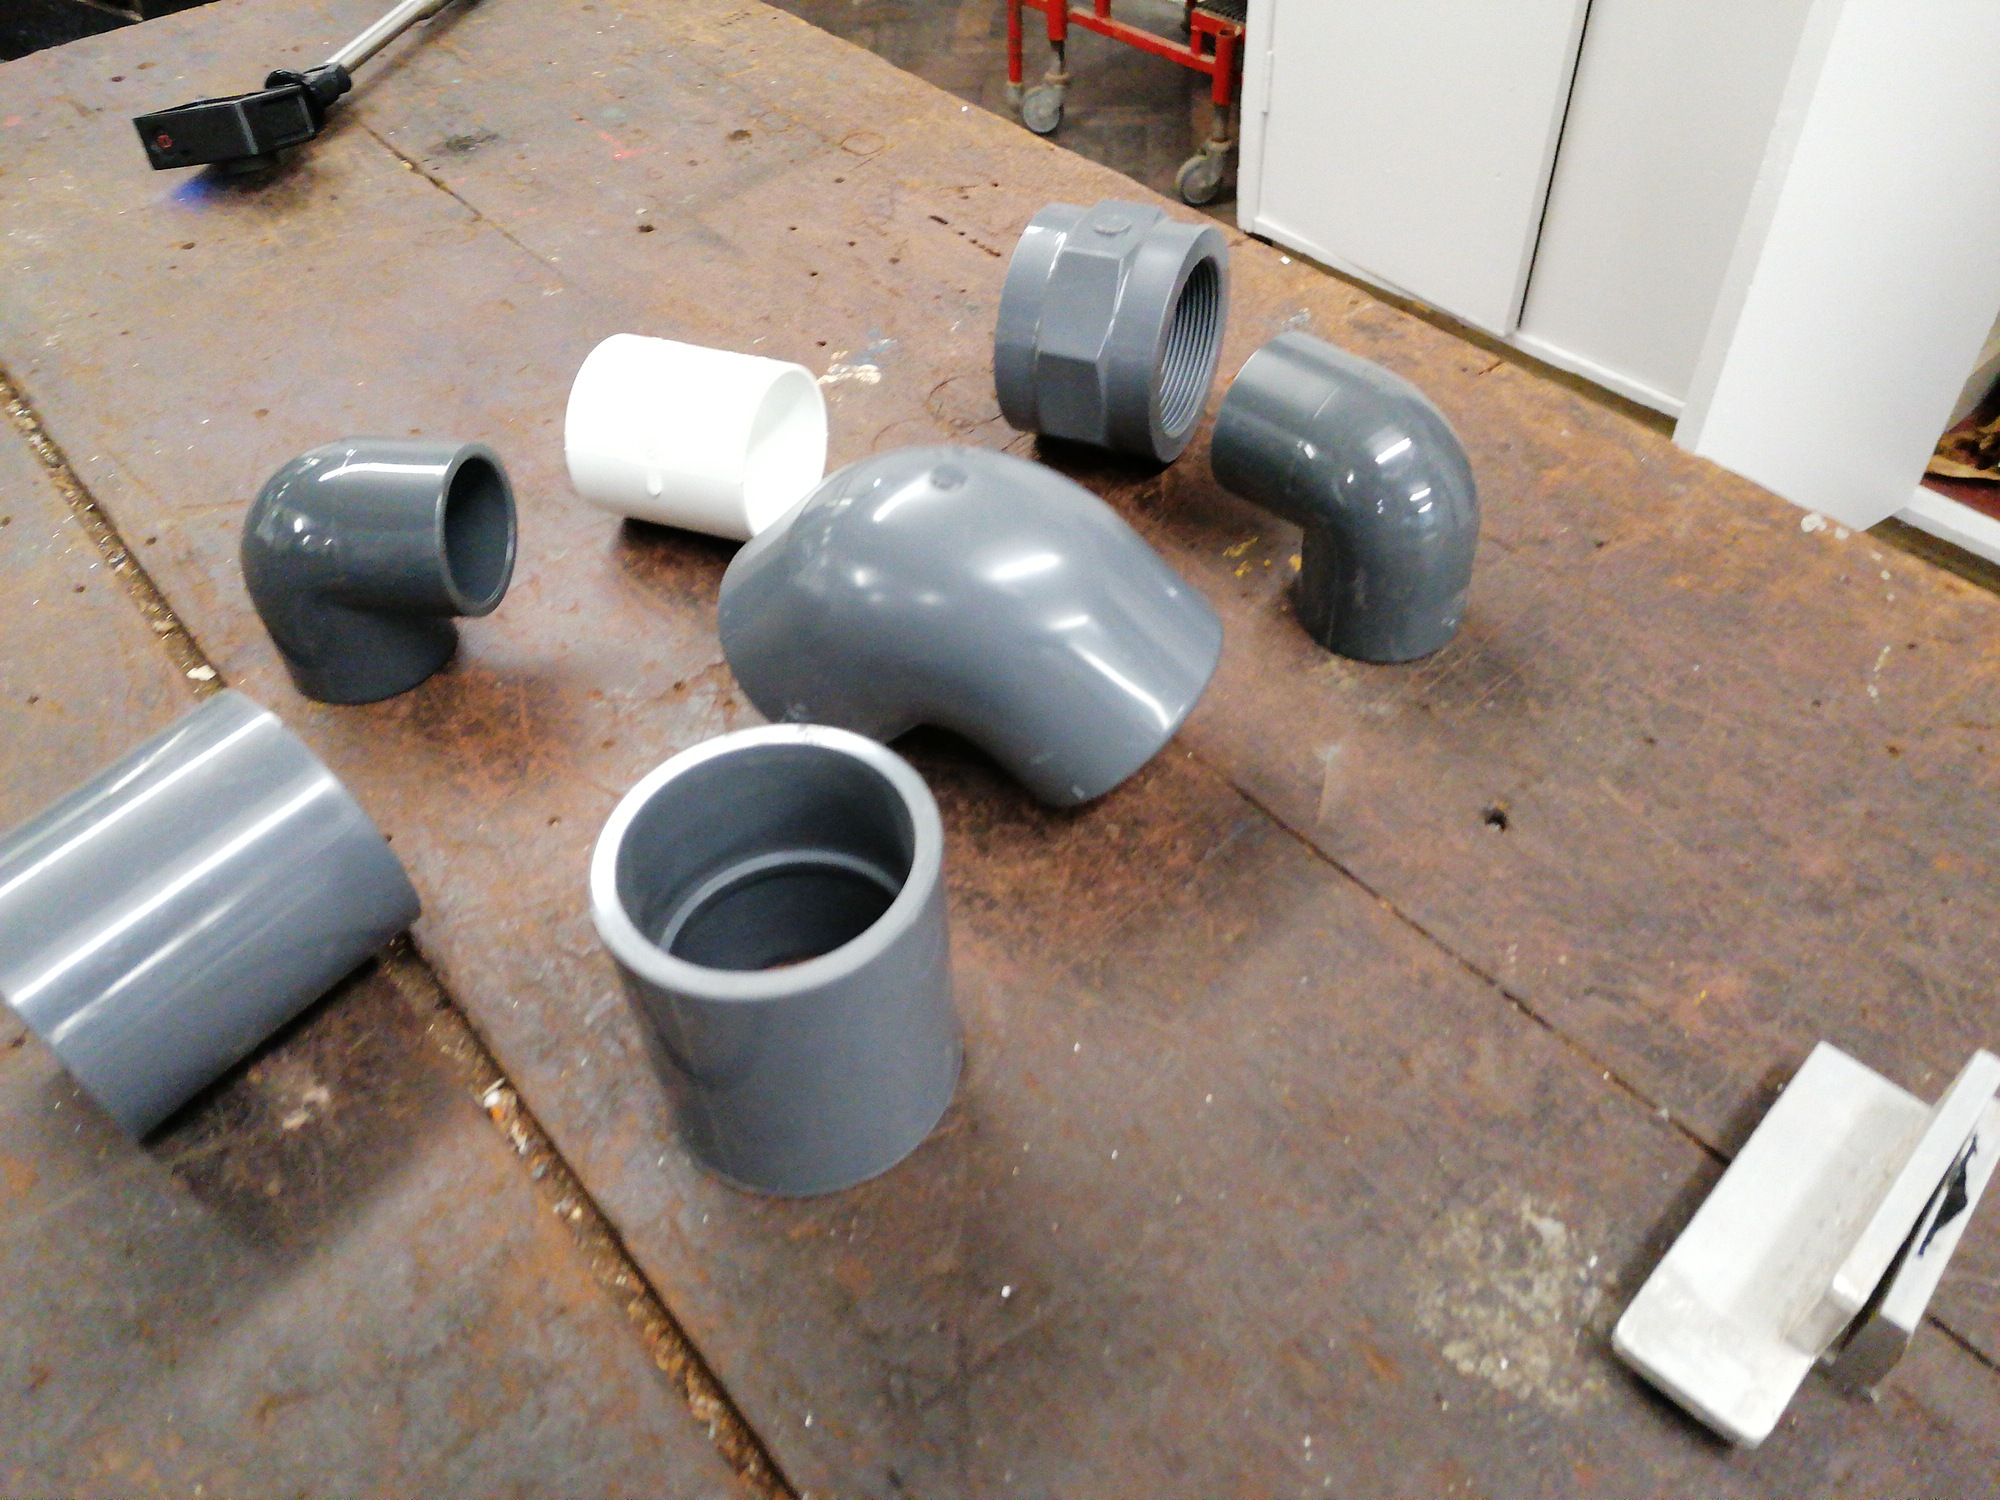nut: (991, 194, 1230, 470)
pipe: (0, 687, 424, 1145), (717, 436, 1224, 813), (586, 720, 969, 1201), (1209, 329, 1480, 663), (239, 433, 520, 703), (564, 329, 827, 540)
